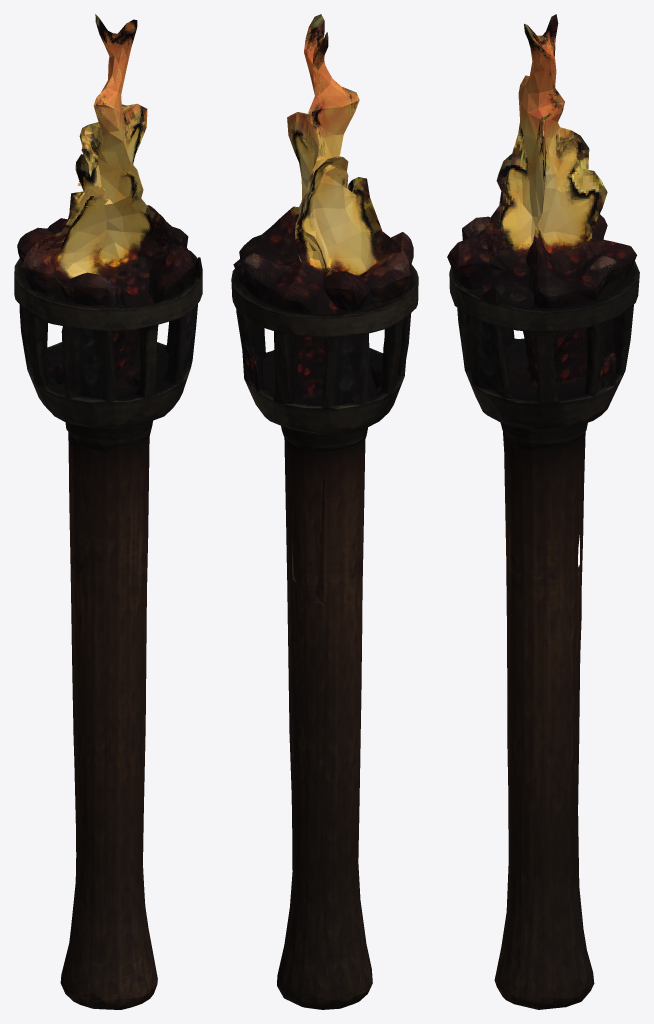
File: Torch.glb
3 views of the same model, side by side, from view 1: azimuth 30°, elevation 25°; view 2: azimuth 150°, elevation 25°; view 3: azimuth 270°, elevation 25° (orthographic).
Visible parts, largest first — view 1: world; view 2: world; view 3: world.
Boxes of the visible parts, <box> form: world: <box>14,14,202,1009</box>; world: <box>231,14,418,1009</box>; world: <box>447,14,639,1009</box>.
Size of the model in its own units: 0.1815 by 1 by 0.178.
1 material, 1 textured.
